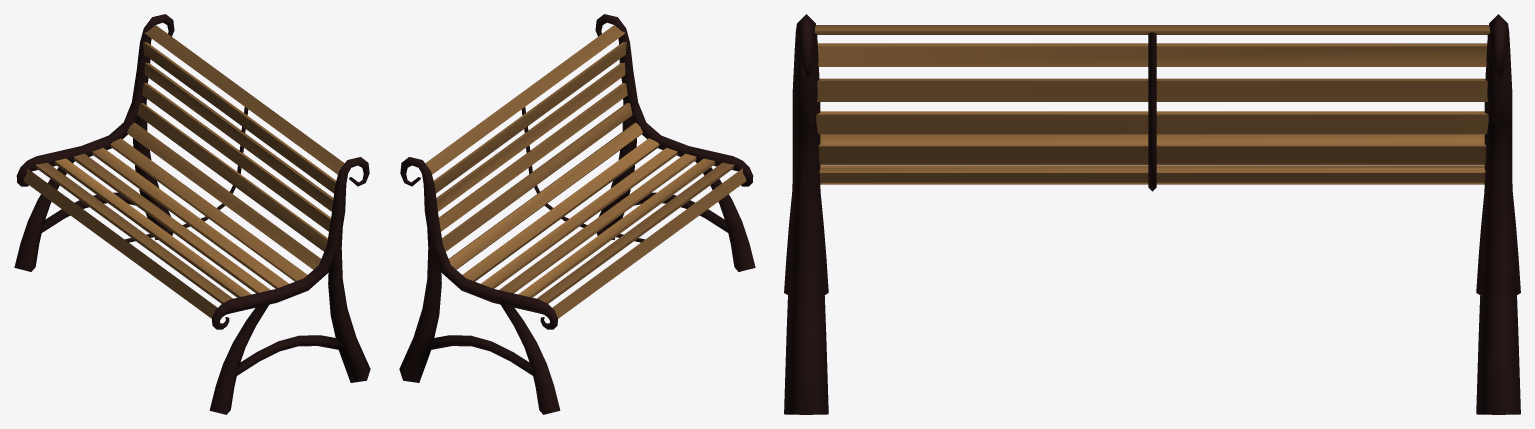
The model's file is bench.fbx.
The picture shows the model from 3 angles, left to right: view 1: azimuth 30°, elevation 25°; view 2: azimuth 150°, elevation 25°; view 3: azimuth 270°, elevation 25°; orthographic projection. The views are drawn at different scales.
Visible parts, largest first — view 1: parkBench.001; view 2: parkBench.001; view 3: parkBench.001.
Boxes of the visible parts, box(x1,y1,x2,y2) form: parkBench.001: box(14, 14, 370, 414); parkBench.001: box(399, 14, 755, 414); parkBench.001: box(784, 14, 1520, 414).
Bounding box in the file's own units: 89.23 × 118 × 199.
